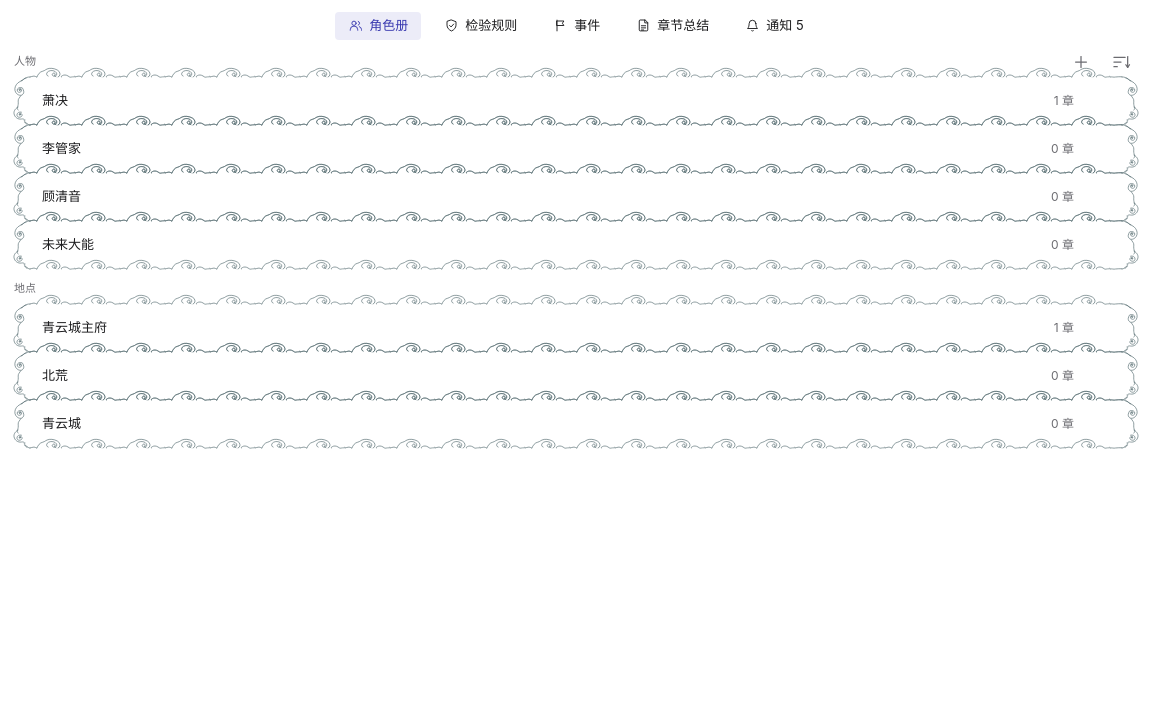
线 2 续：大写枚举和属性里的字 › **通知面板里的提案卡**也一样 —— 那儿曾经印着一串截断的内部编号
Click the button "通知 5" at (774, 26), box [732, 12, 817, 40]
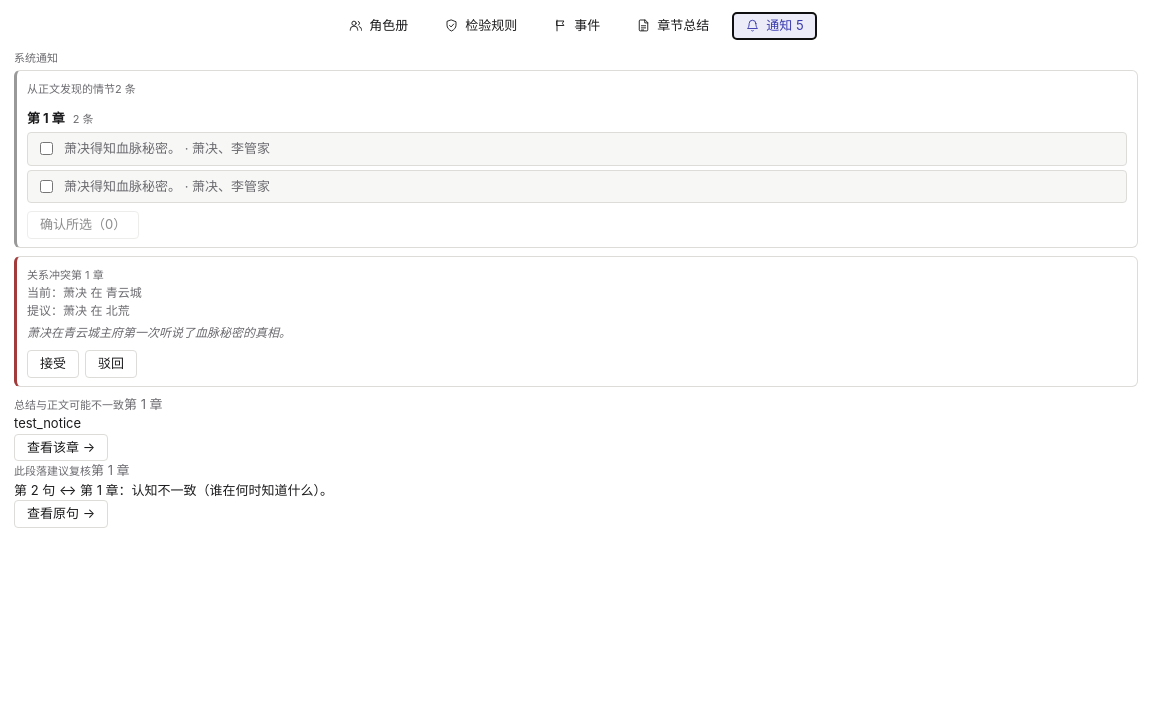
Check: the text "关系冲突" shows "青云城", box [63, 285, 142, 300]
Check: the text "关系冲突" shows "北荒", box [63, 303, 130, 318]
